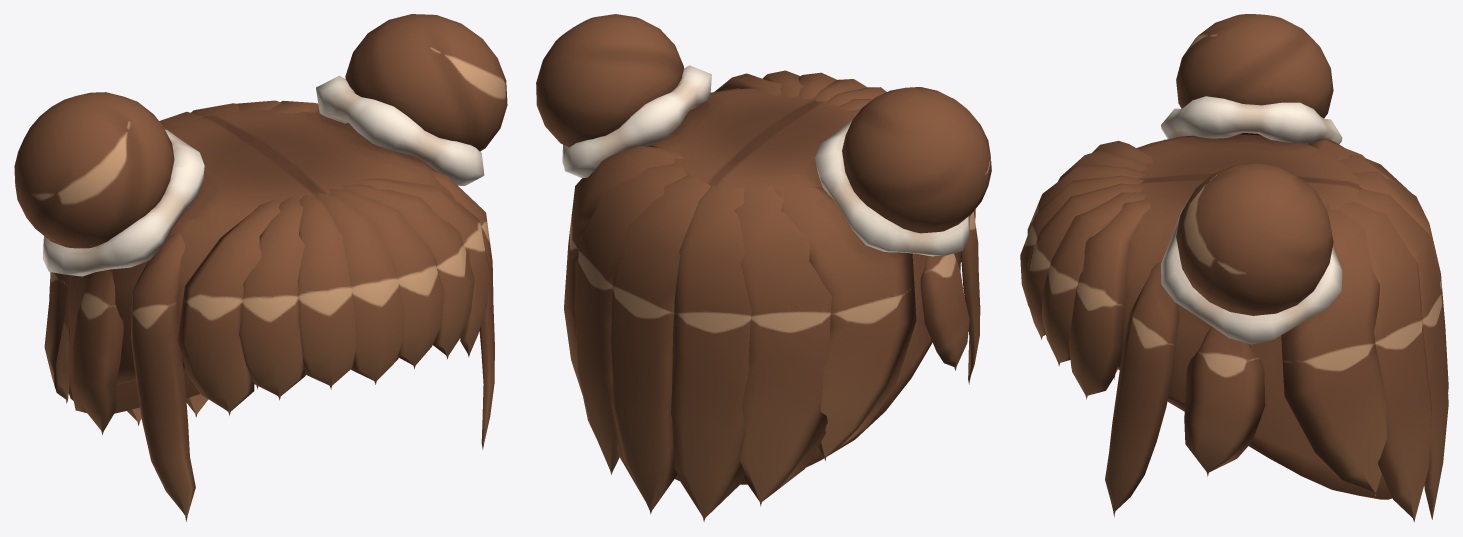
Rendered from KawaiiSpaceBuns_Chatain.fbx.
3 views of the same model, side by side, from view 1: azimuth 30°, elevation 25°; view 2: azimuth 150°, elevation 25°; view 3: azimuth 270°, elevation 25° (orthographic). The views are drawn at different scales.
Visible parts, largest first — view 1: KawaiiSpaceBuns; view 2: KawaiiSpaceBuns; view 3: KawaiiSpaceBuns.
Boxes of the visible parts, <box> form: KawaiiSpaceBuns: <box>14,14,507,521</box>; KawaiiSpaceBuns: <box>536,14,991,521</box>; KawaiiSpaceBuns: <box>1020,14,1448,522</box>.
Bounding box in the file's own units: 1.72 × 1.51 × 1.42.
1 material, 1 textured.
